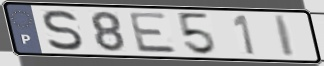1: (231, 14, 258, 57)
5: (174, 12, 220, 57)
8: (89, 10, 127, 53)
E: (126, 11, 180, 55)
I: (272, 14, 297, 59)
S: (41, 8, 85, 52)
